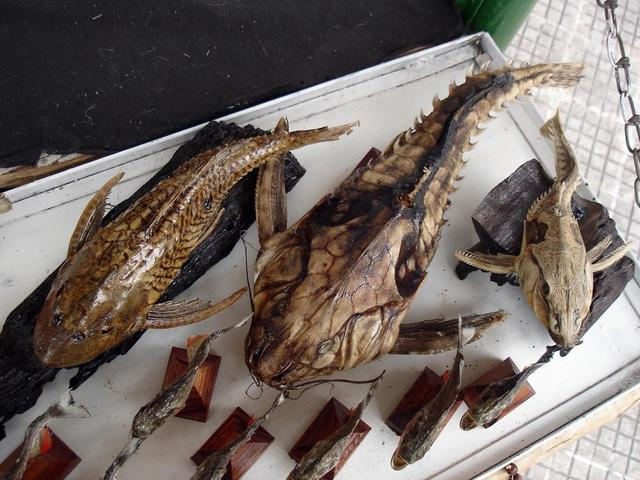fish: (2, 81, 421, 363)
